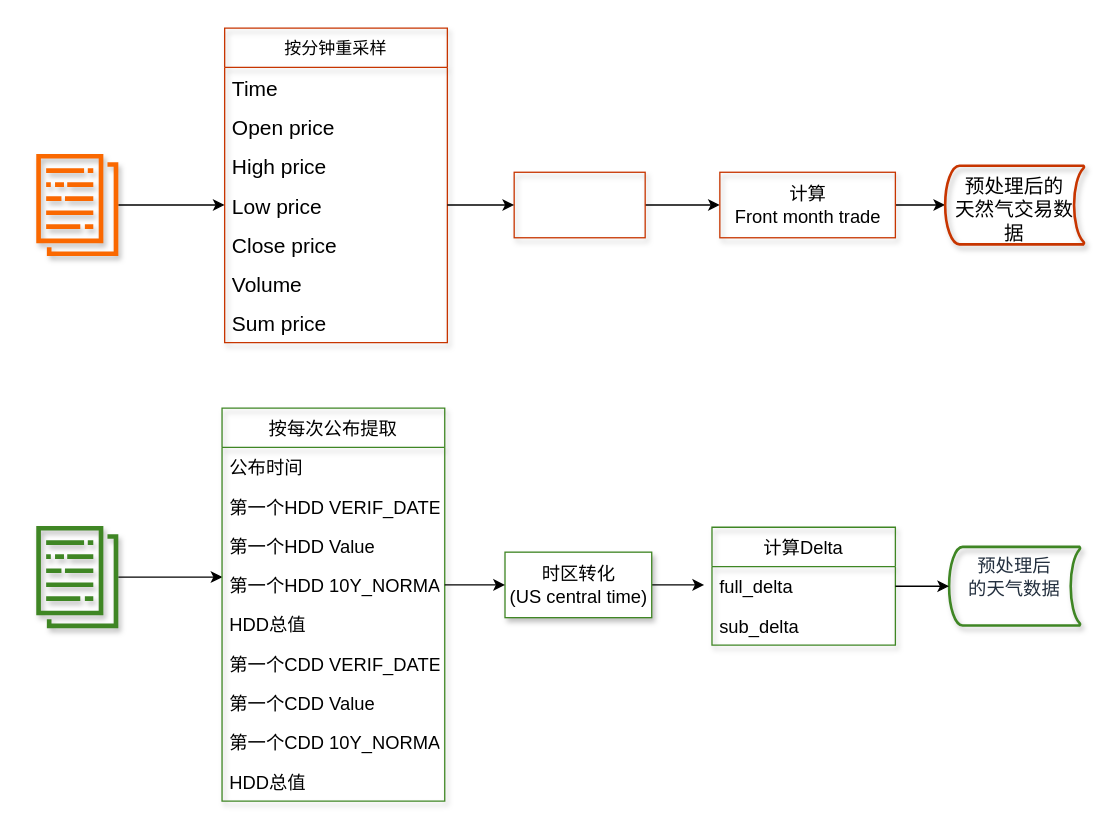
This 1116x833 diagram has some shape labels left out. The centre of each missing label's shape, as x and y in pixels:
"天气数据" belongs at [78,578].
"天然气交易数据" belongs at [77,206].
"计算VWAP" belongs at [580,206].
